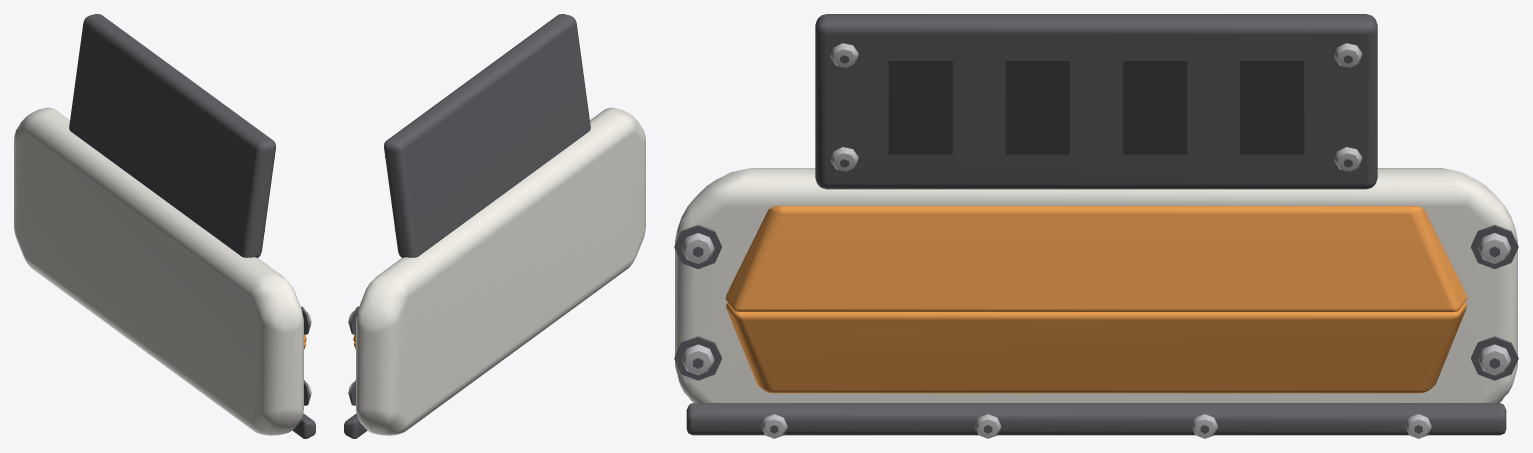
File: plate_wedge_sides_hdpe.glb
3 views of the same model, side by side, from view 1: azimuth 30°, elevation 25°; view 2: azimuth 150°, elevation 25°; view 3: azimuth 270°, elevation 25° (orthographic). The views are drawn at different scales.
Visible parts, largest first — view 1: body; view 2: body; view 3: body.
Part boxes in pixels (x1,y1,x2,y2): body: (14, 14, 315, 438); body: (344, 14, 645, 438); body: (674, 14, 1518, 438).
Bounding box in the file's own units: 0.0336 × 0.1592 × 0.2882.
